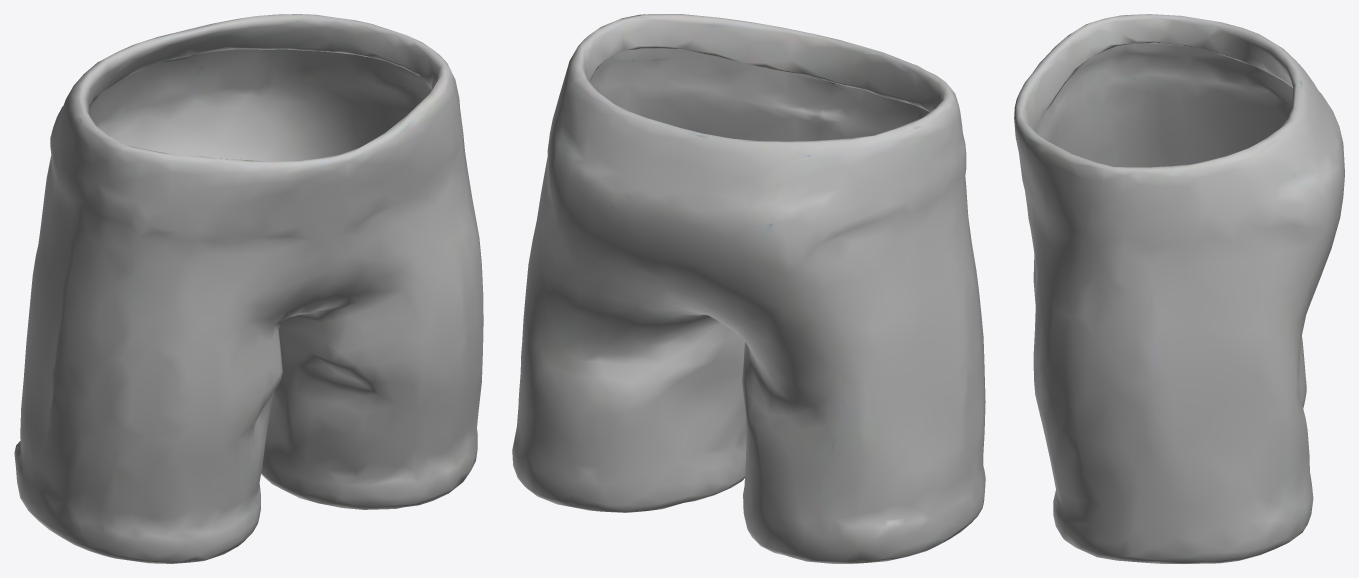
Rendered from Chibi Shorts Keychain.glb.
The picture shows the model from 3 angles, left to right: view 1: azimuth 30°, elevation 25°; view 2: azimuth 150°, elevation 25°; view 3: azimuth 270°, elevation 25°; orthographic projection. The views are drawn at different scales.
Parts seen in each view (by area): view 1: short; view 2: short; view 3: short.
Boxes of the visible parts, left/top/right/bottom form: short: left=14, top=14, right=483, bottom=563; short: left=512, top=14, right=985, bottom=563; short: left=1014, top=14, right=1344, bottom=563.
Size of the model in its own units: 0.2581 by 0.2442 by 0.1879.
Materials: 1 (1 with a texture image).
